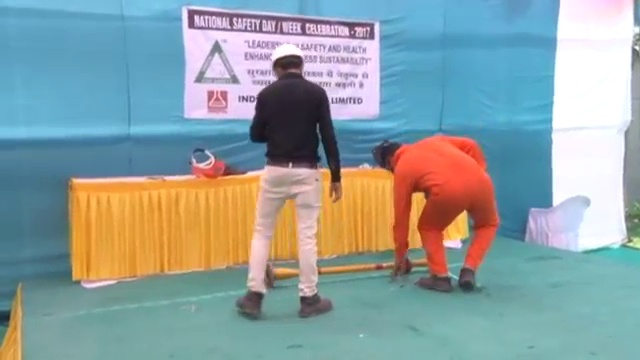helmet: (268, 42, 307, 68)
helmet_off: (380, 141, 405, 169)
helmet_on: (267, 41, 307, 80)
person: (244, 43, 342, 322), (372, 134, 494, 298)
